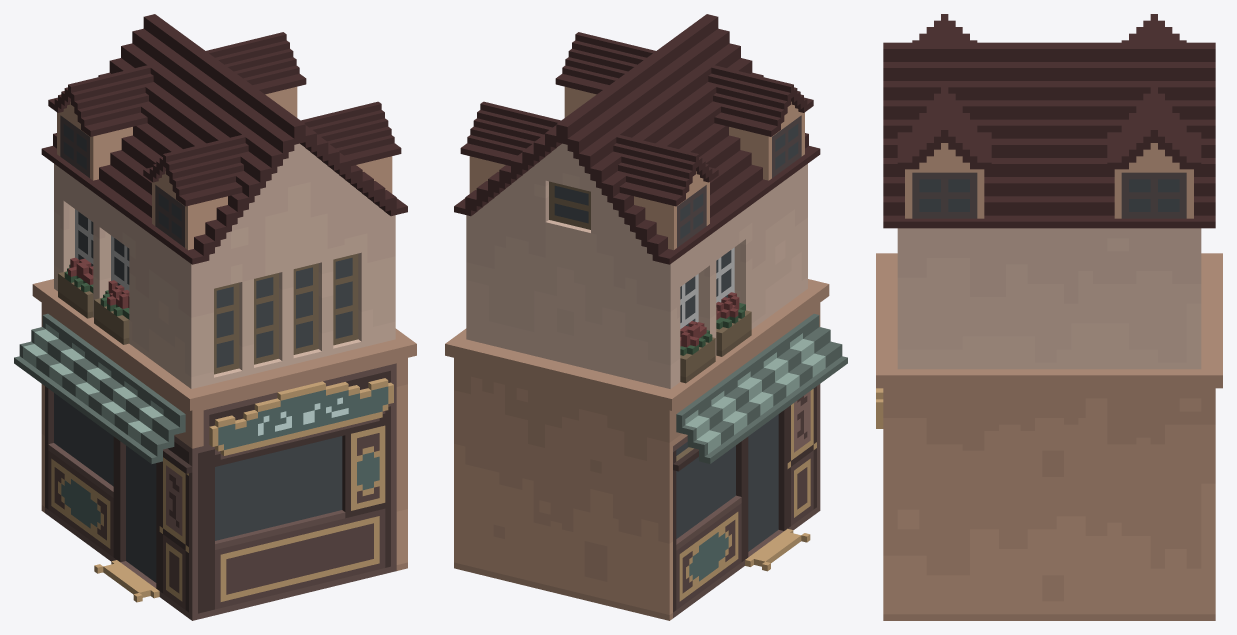
The model's file is Corner Cafe-25.obj.
The picture shows the model from 3 angles, left to right: view 1: azimuth 30°, elevation 25°; view 2: azimuth 150°, elevation 25°; view 3: azimuth 270°, elevation 25°; orthographic projection. The views are drawn at different scales.
Size of the model in its own units: 4.5 by 7.9 by 4.8.
Materials: 1 (1 with a texture image).
